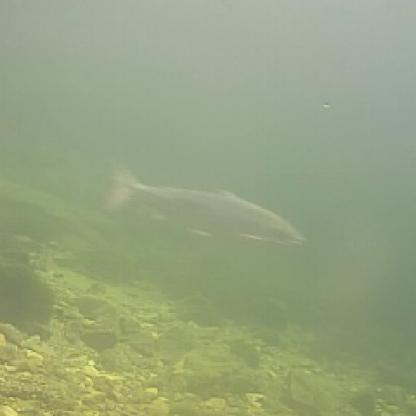salmon: (94, 154, 310, 252)
